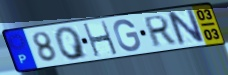8: (31, 30, 58, 63)
G: (113, 18, 143, 53)
H: (81, 19, 120, 59)
N: (164, 7, 207, 47)
Q: (53, 25, 90, 61)
R: (143, 13, 177, 49)
